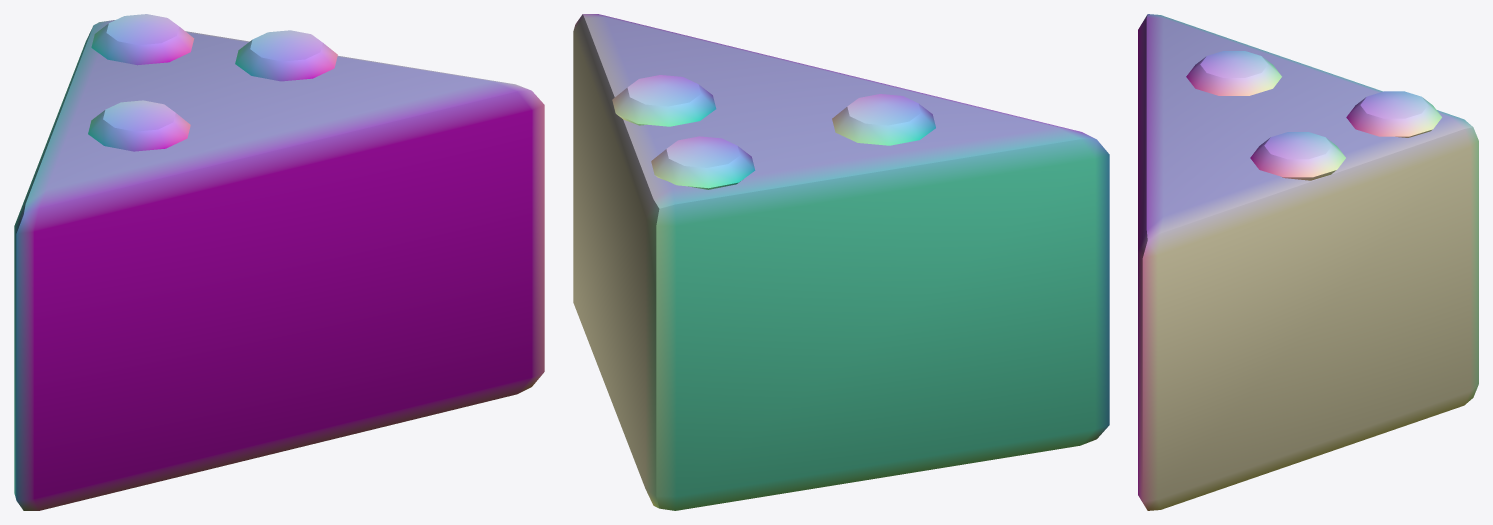
The model's file is prop_cheese.glb.
3 renders of one model, left to right at view 1: azimuth 30°, elevation 25°; view 2: azimuth 150°, elevation 25°; view 3: azimuth 270°, elevation 25°, orthographic. The views are drawn at different scales.
Parts seen in each view (by area): view 1: cheese_mesh; view 2: cheese_mesh; view 3: cheese_mesh.
Boxes of the visible parts, <box> form: cheese_mesh: <box>14,14,544,510</box>; cheese_mesh: <box>573,14,1109,510</box>; cheese_mesh: <box>1138,14,1478,510</box>.
Size of the model in its own units: 0.1739 by 0.106 by 0.1064.
